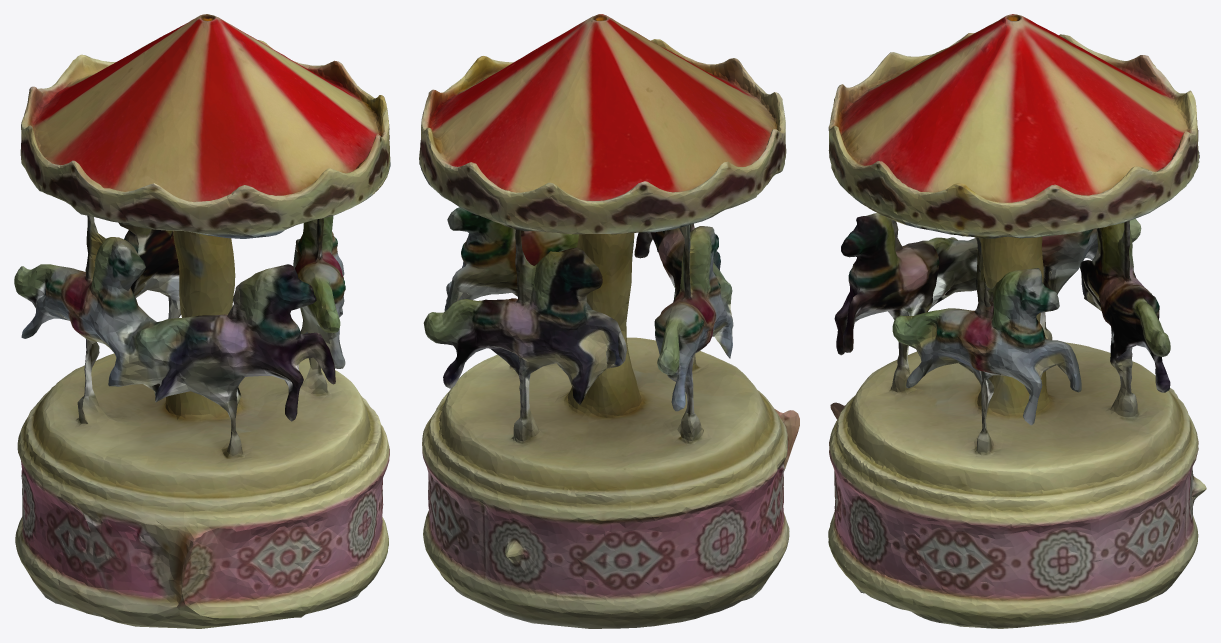
The model's file is model_New Qlone_20260518_110440948.fbx.
The picture shows the model from 3 angles, left to right: view 1: azimuth 30°, elevation 25°; view 2: azimuth 150°, elevation 25°; view 3: azimuth 270°, elevation 25°; orthographic projection.
Visible parts, largest first — view 1: object; view 2: object; view 3: object.
Part boxes in pixels (x1,y1,x2,y2): object: [14, 14, 390, 628]; object: [419, 14, 799, 628]; object: [828, 14, 1206, 628].
Bounding box in the file's own units: 404 × 657 × 409.
1 material, 1 textured.
